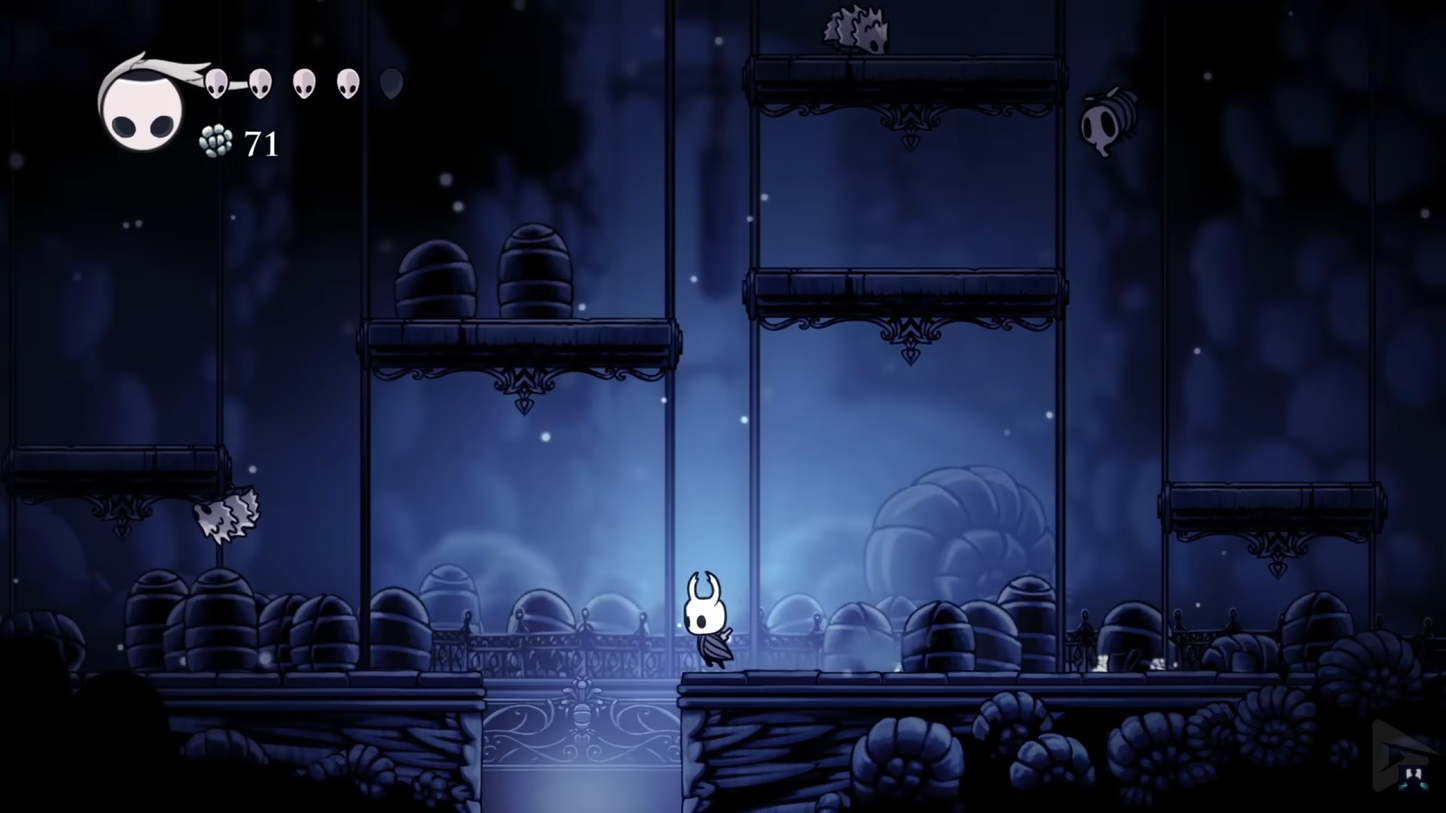HK: (675, 570, 741, 672)
